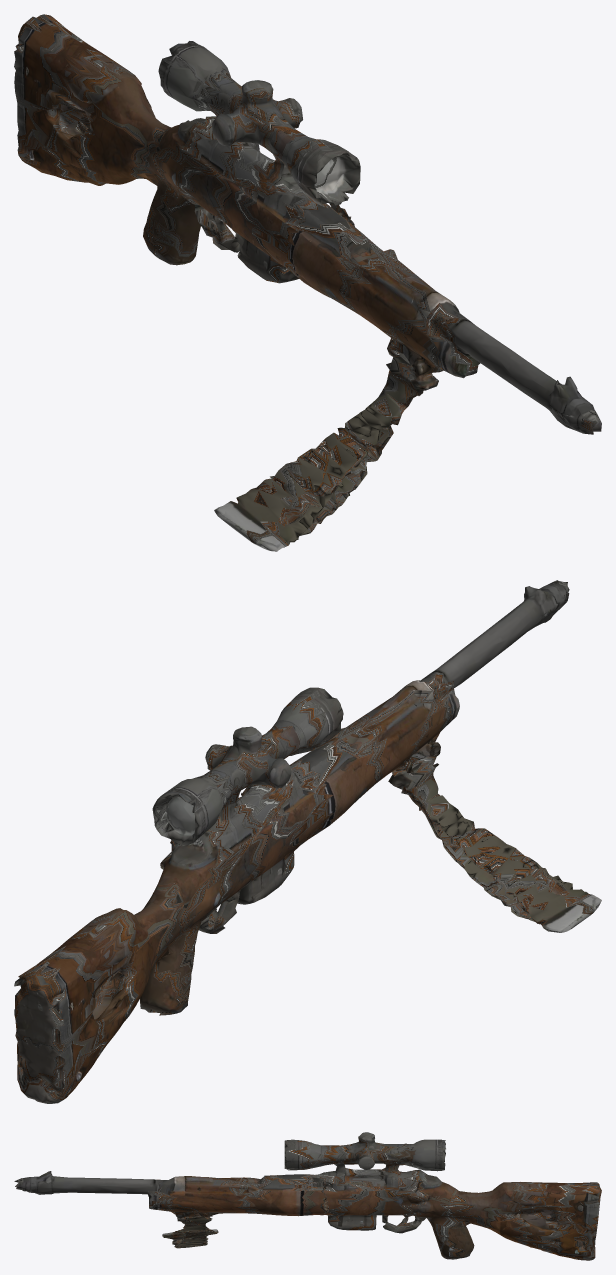
Rendered from قناصة.glb.
3 renders of one model, top to bottom at view 1: azimuth 30°, elevation 25°; view 2: azimuth 150°, elevation 25°; view 3: azimuth 270°, elevation 25°, orthographic. The views are drawn at different scales.
Visible parts, largest first — view 1: tripo_node_947e5c1d-75af-47d3-b664-ba311424665f; view 2: tripo_node_947e5c1d-75af-47d3-b664-ba311424665f; view 3: tripo_node_947e5c1d-75af-47d3-b664-ba311424665f.
Boxes of the visible parts, bbox=[...] form: tripo_node_947e5c1d-75af-47d3-b664-ba311424665f: bbox=[14, 14, 601, 551]; tripo_node_947e5c1d-75af-47d3-b664-ba311424665f: bbox=[14, 580, 601, 1103]; tripo_node_947e5c1d-75af-47d3-b664-ba311424665f: bbox=[14, 1132, 601, 1260].
Size of the model in its own units: 0.2509 by 0.2855 by 0.9992.
Materials: 1 (1 with a texture image).
